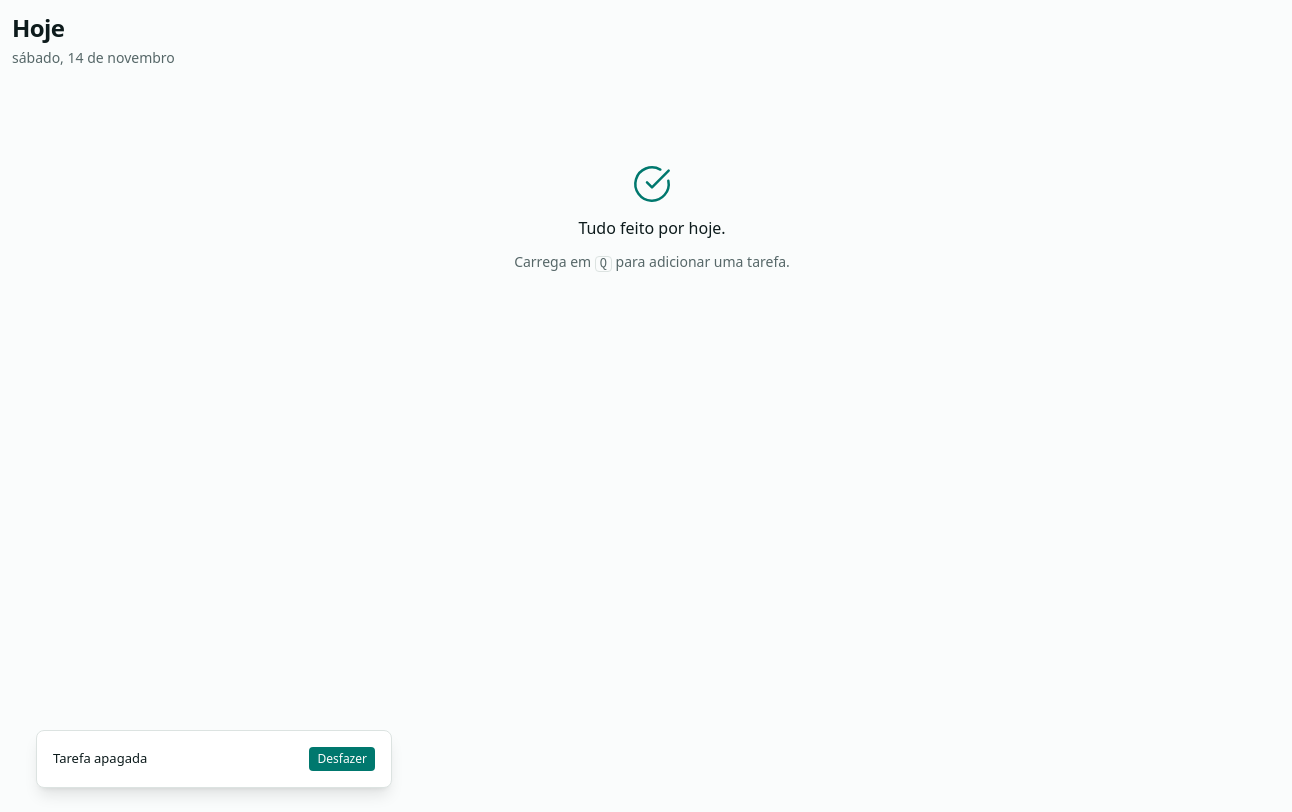
Scenario: TodayPage › apagar remove a tarefa de imediato e permite desfazer
This screenshot has width=1292, height=812.
Earlier steps of the test are not shown.
Check: the text "Comprar pão" is not shown
Check: the text "Tarefa apagada" is shown, box [53, 749, 147, 769]
Click the button "Desfazer" at x=342, y=759, box [310, 747, 375, 771]
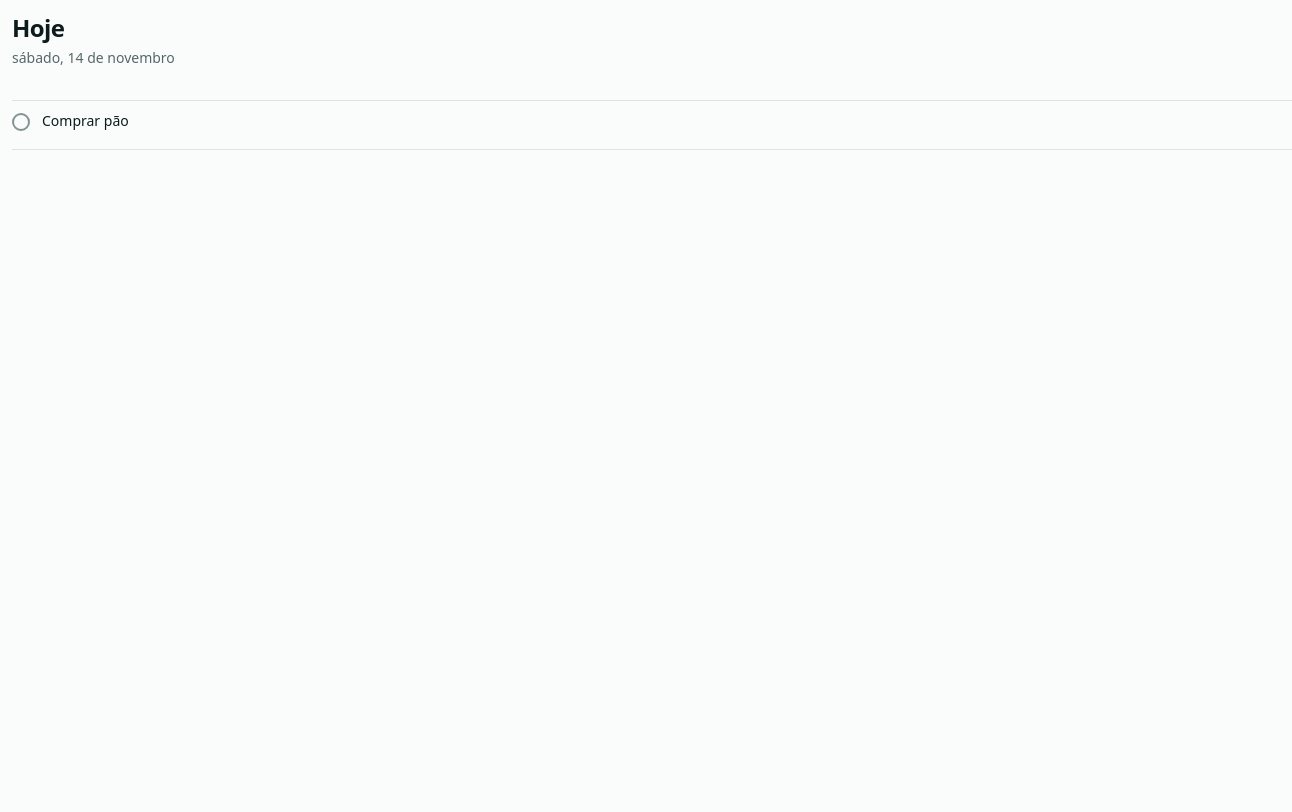
Check: the text "Comprar pão" is shown, box [42, 111, 129, 130]
